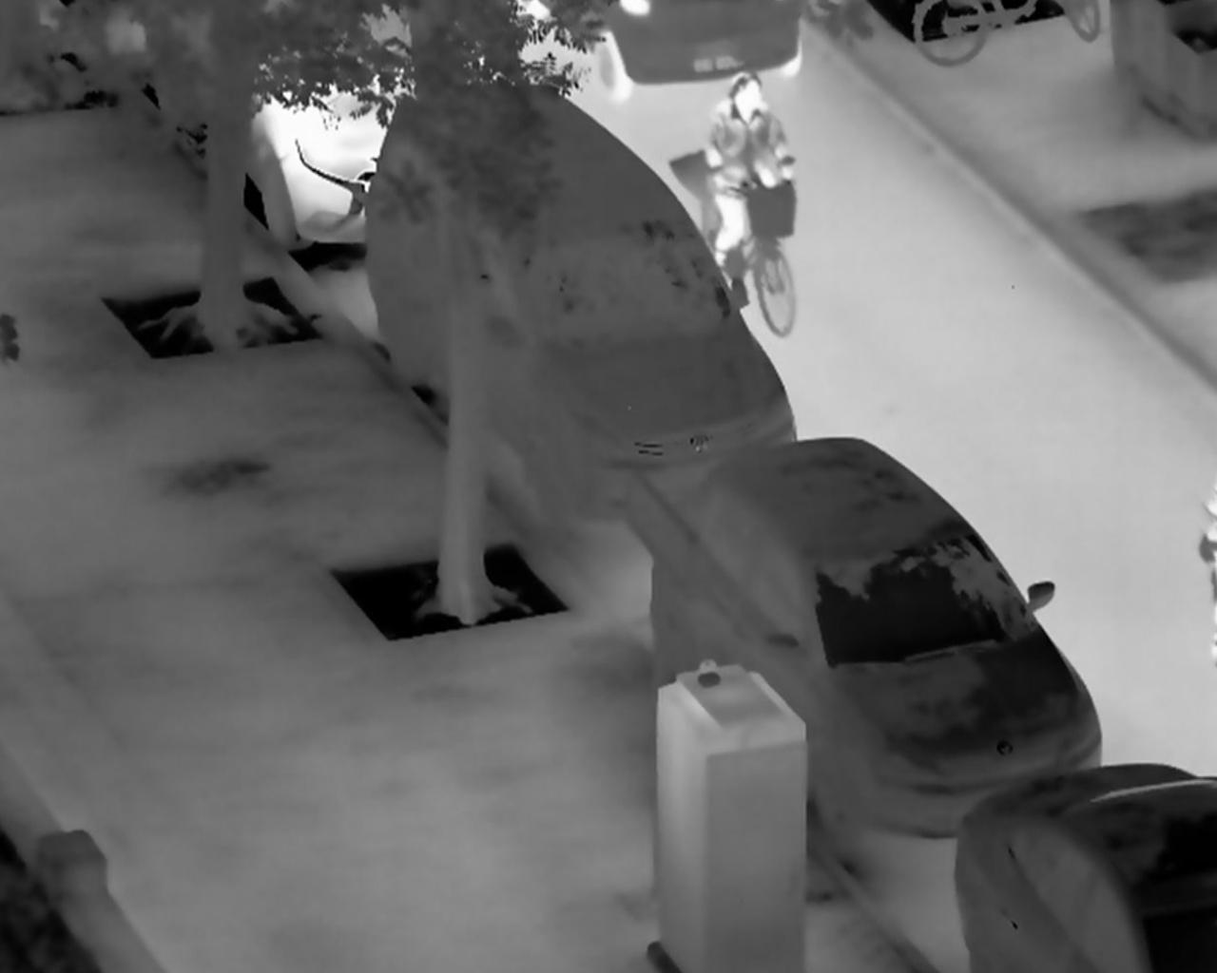person: (702, 70, 799, 296)
